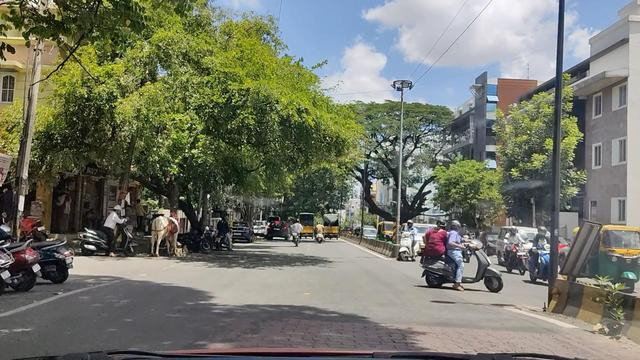LMV: (423, 226, 491, 297), (91, 202, 136, 258)
